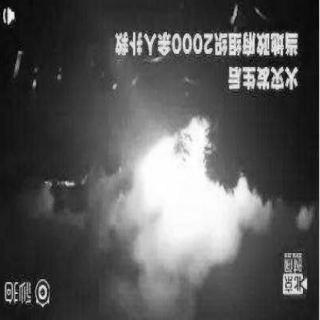Fire: (139, 111, 235, 225)
